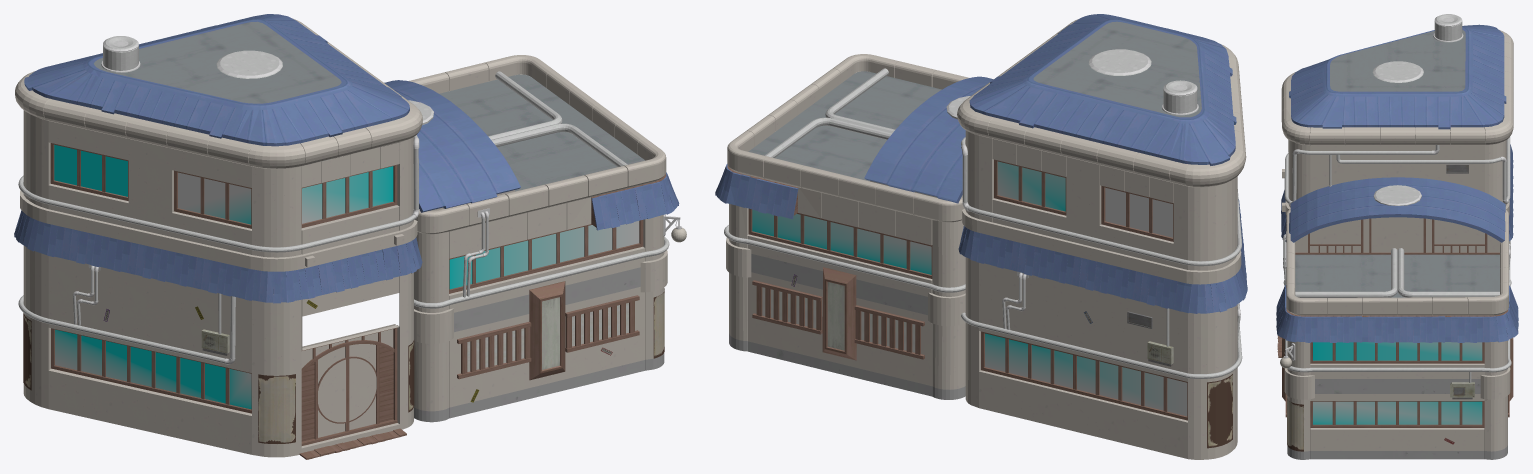
The model's file is SM_ENV_KNVLLG_AreaD_Building_B.fbx.
3 views of the same model, side by side, from view 1: azimuth 30°, elevation 25°; view 2: azimuth 150°, elevation 25°; view 3: azimuth 270°, elevation 25° (orthographic). The views are drawn at different scales.
Parts seen in each view (by area): view 1: SM_ENV_KNVLLG_AreaD_Building_B.mo; view 2: SM_ENV_KNVLLG_AreaD_Building_B.mo; view 3: SM_ENV_KNVLLG_AreaD_Building_B.mo.
Part boxes in pixels (<box>): SM_ENV_KNVLLG_AreaD_Building_B.mo: <box>14,14,686,459</box>; SM_ENV_KNVLLG_AreaD_Building_B.mo: <box>715,14,1247,459</box>; SM_ENV_KNVLLG_AreaD_Building_B.mo: <box>1276,14,1518,459</box>.
Bounding box in the file's own units: 4495 × 2823 × 2271.
